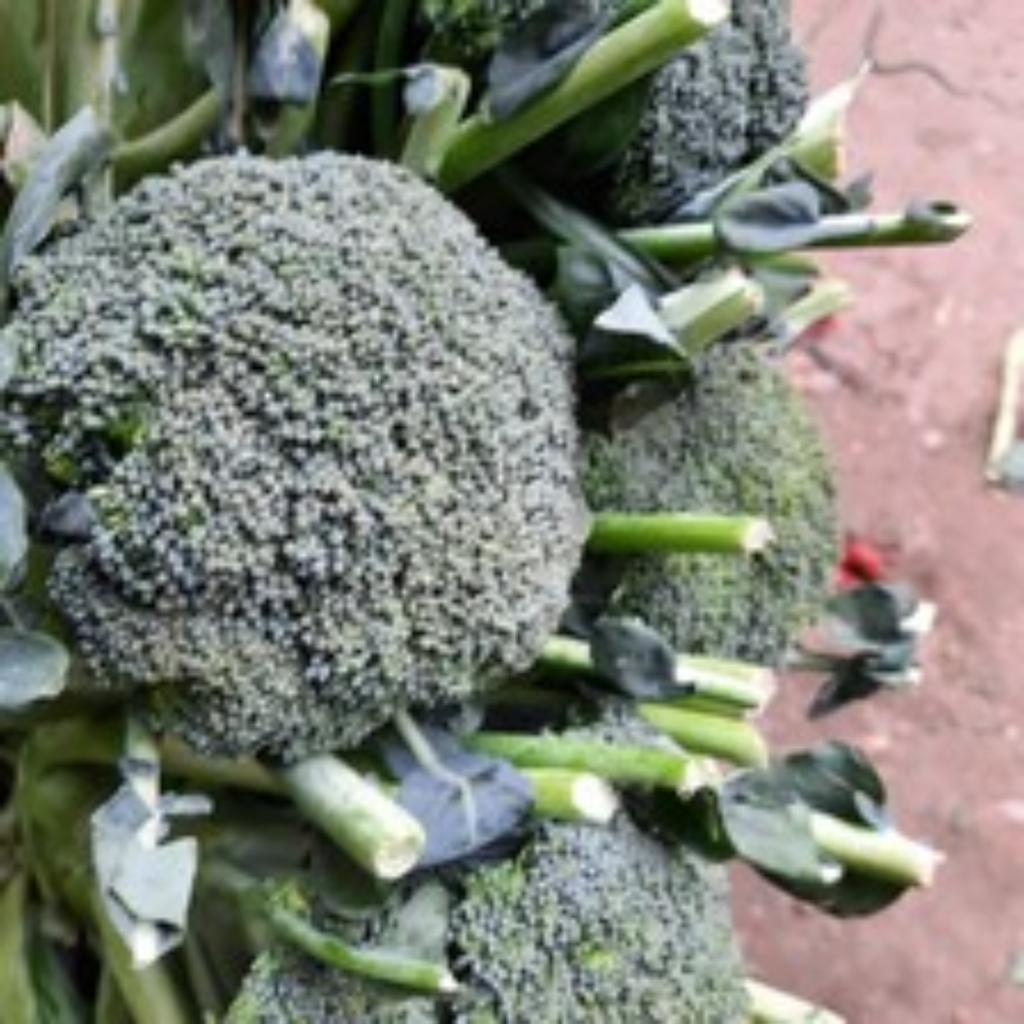Broccoli: (2, 154, 586, 759), (4, 154, 586, 759)
